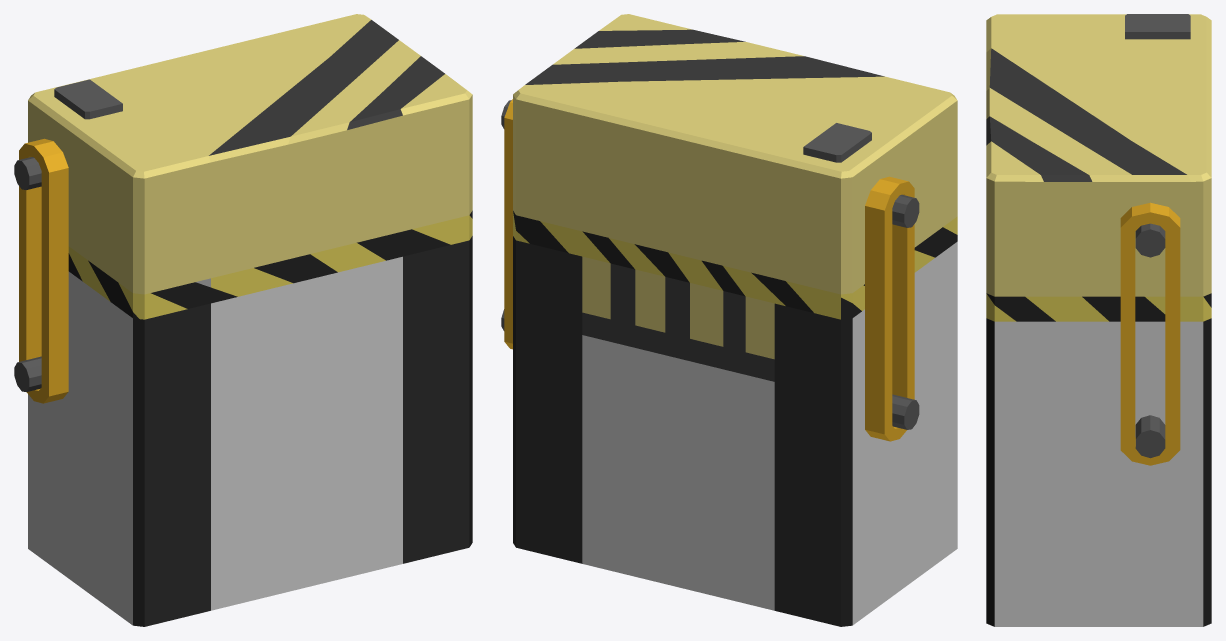
File: lajitong.fbx
3 renders of one model, left to right at view 1: azimuth 30°, elevation 25°; view 2: azimuth 150°, elevation 25°; view 3: azimuth 270°, elevation 25°, orthographic.
Visible parts, largest first — view 1: pCylinder5; view 2: pCylinder5; view 3: pCylinder5.
Part boxes in pixels (left/top/right/bottom): pCylinder5: left=14, top=14, right=472, bottom=626; pCylinder5: left=501, top=14, right=957, bottom=626; pCylinder5: left=986, top=14, right=1211, bottom=626.
Size of the model in its own units: 5.78 by 6.31 by 2.82.
